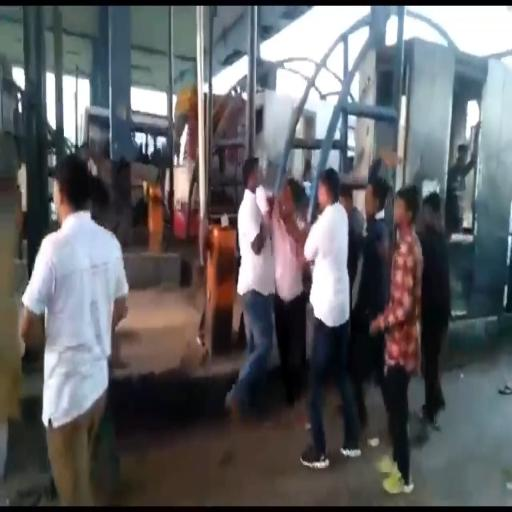violencia: (231, 146, 314, 452)
